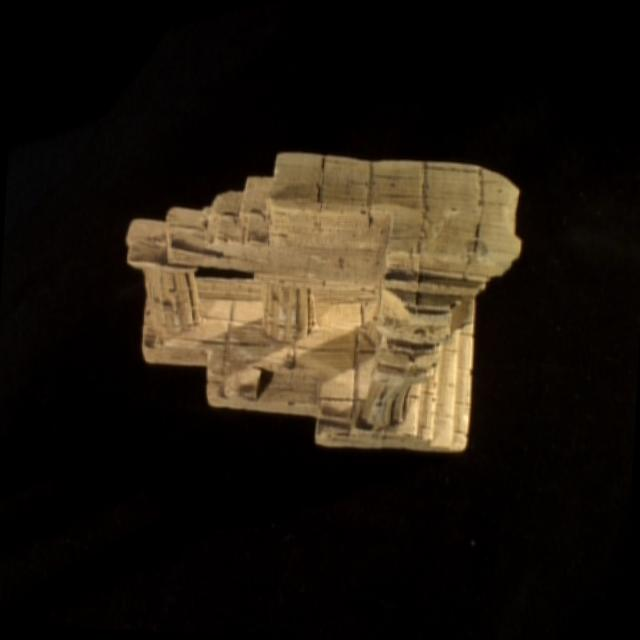Instance-Segmentation: (128, 153, 520, 451)
